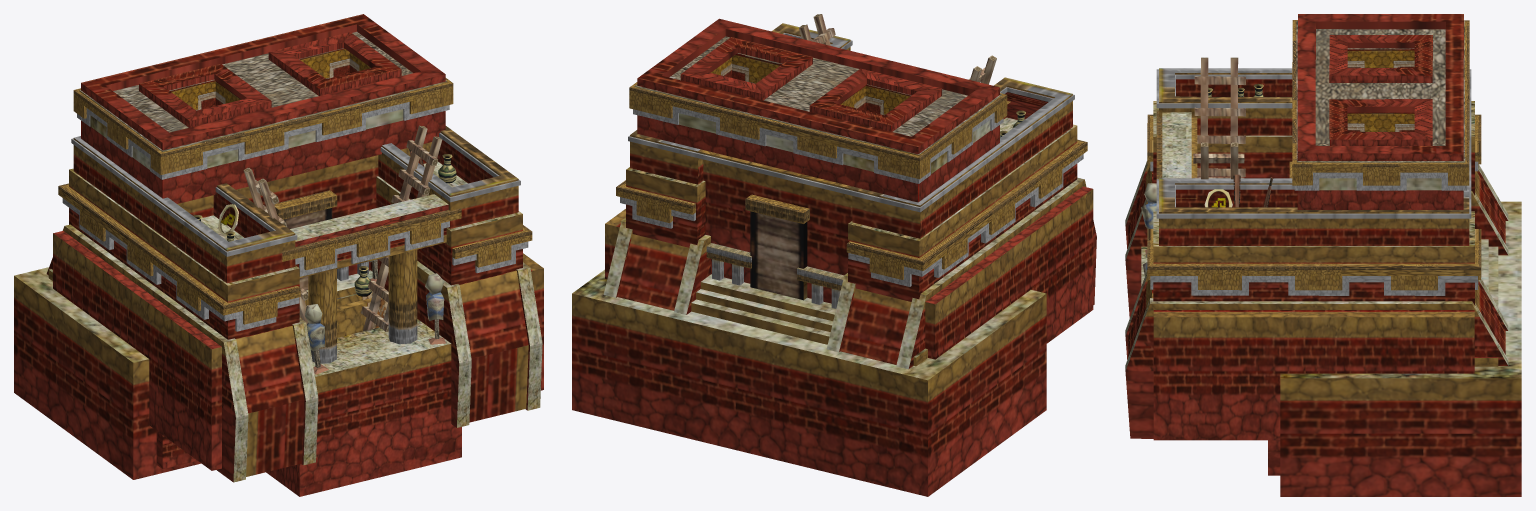
The model's file is barracks.dae.
3 views of the same model, side by side, from view 1: azimuth 30°, elevation 25°; view 2: azimuth 150°, elevation 25°; view 3: azimuth 270°, elevation 25° (orthographic).
Parts seen in each view (by area): view 1: barracks; view 2: barracks; view 3: barracks.
Boxes of the visible parts, bbox=[...] form: barracks: bbox=[14, 14, 543, 496]; barracks: bbox=[572, 14, 1096, 496]; barracks: bbox=[1125, 14, 1521, 496].
Size of the model in its own units: 23.56 by 22.33 by 20.23.
